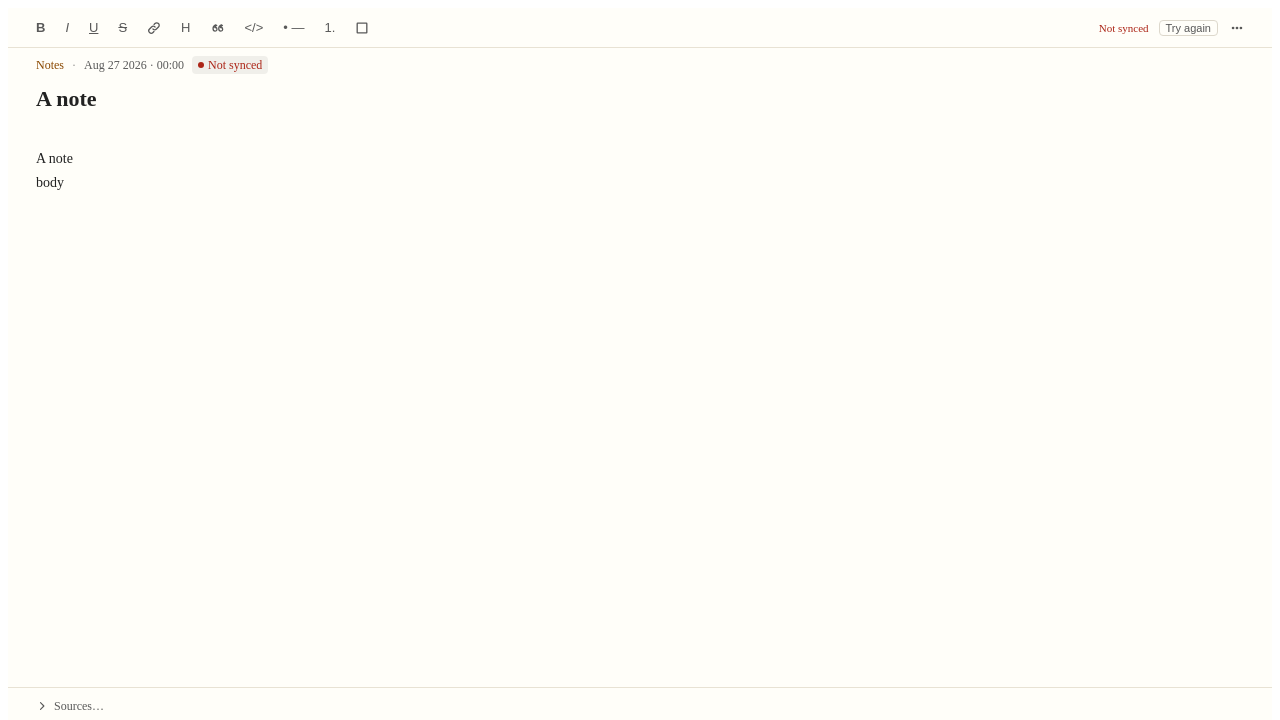
Test case: NoteEditor shows why a push is blocked, and locks only when editing cannot help › a re-refusal after Try again shows the indicator, not the popover
Click the button with class "meta-status". click: (230, 65)
box: [192,56,268,74]
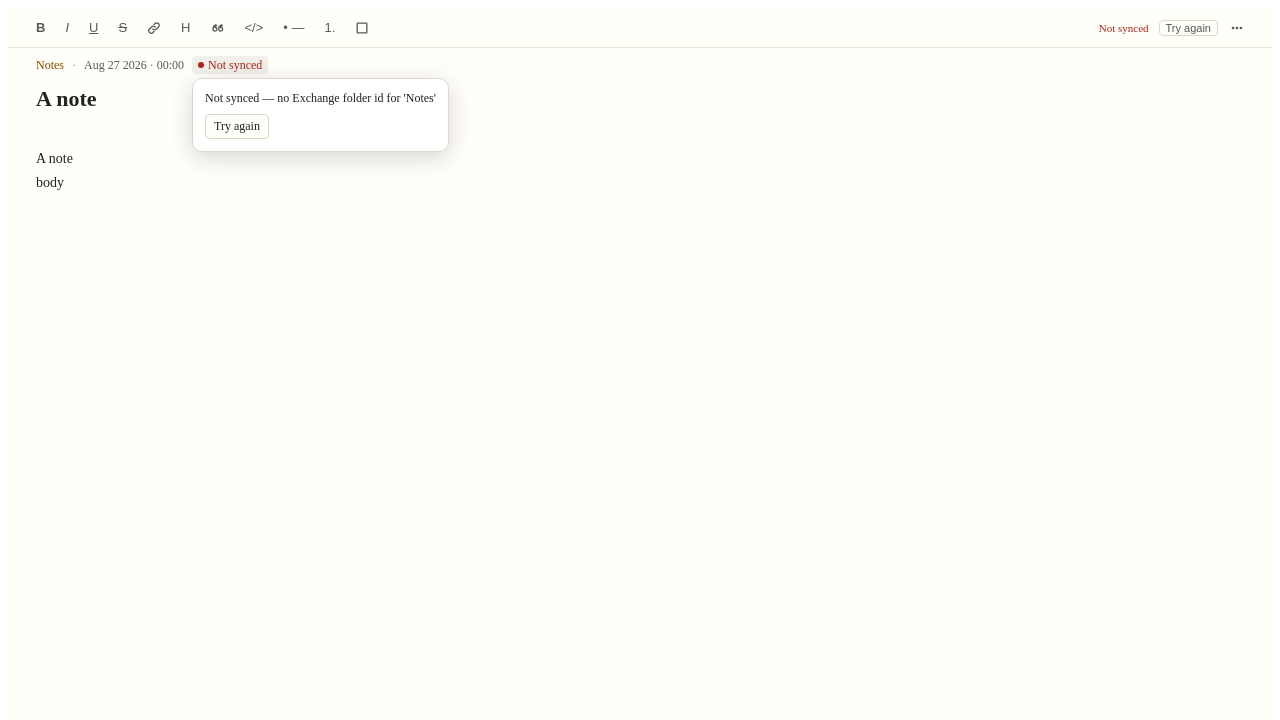
Click the 2nd button with class "retry-sync-btn". click: (237, 126)
box: [205,114,269,139]
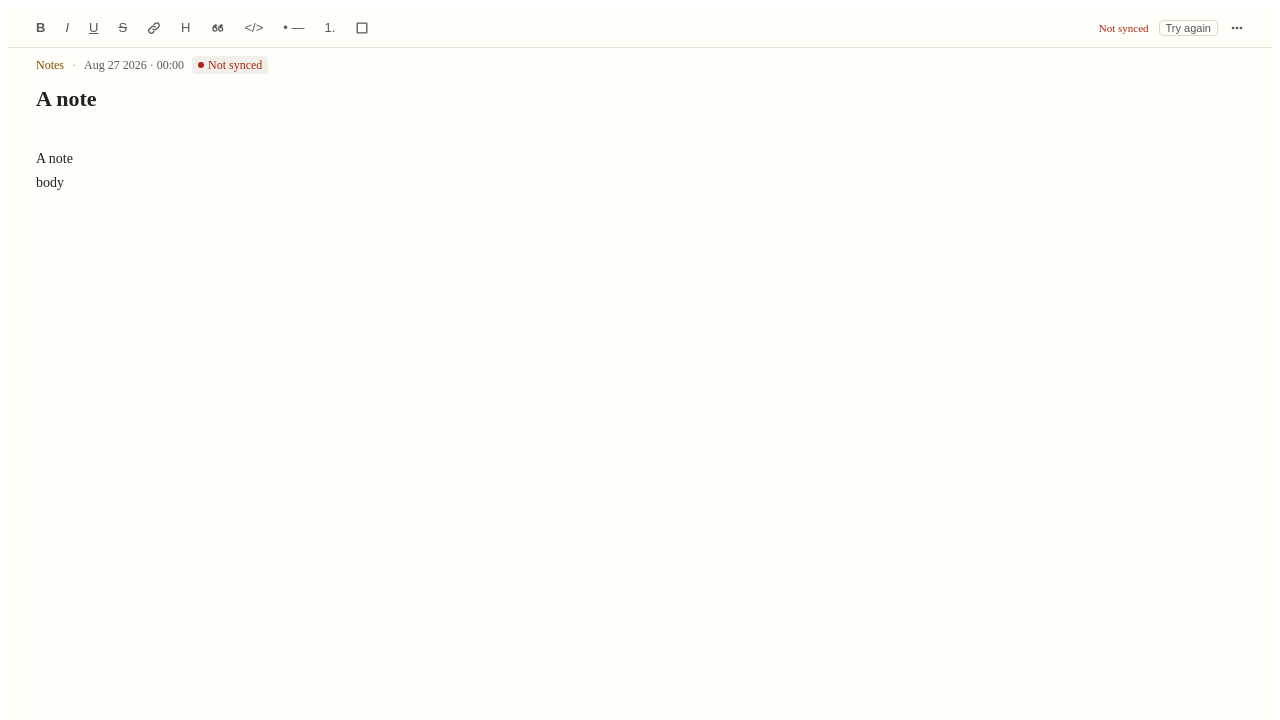
Expected: the button with class "meta-status" reads "Not synced", [192,56,268,74]
Result: the dialog with test id "meta-status-popover" is gone
